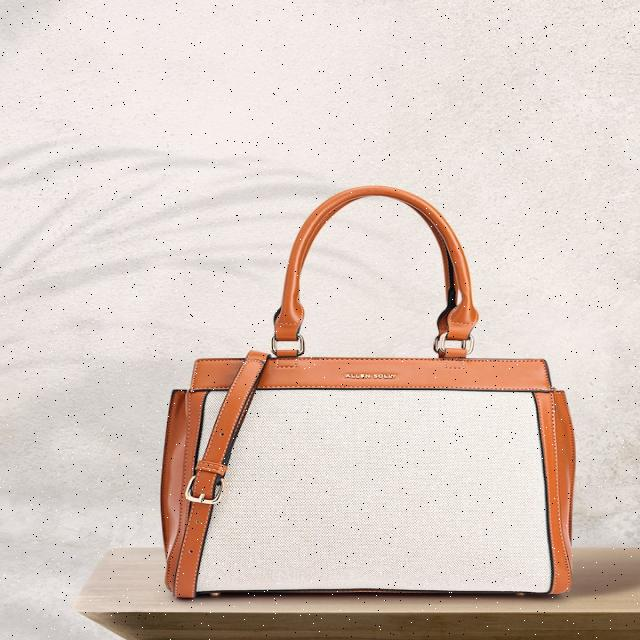handbag: (158, 184, 576, 598)
